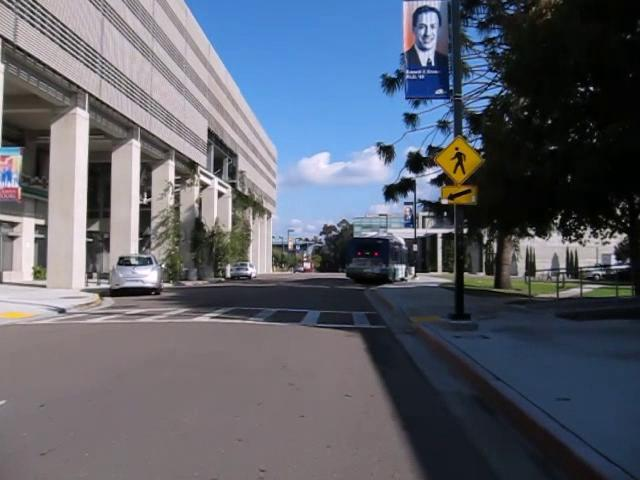pedestrianCrossing: (433, 134, 484, 186)
